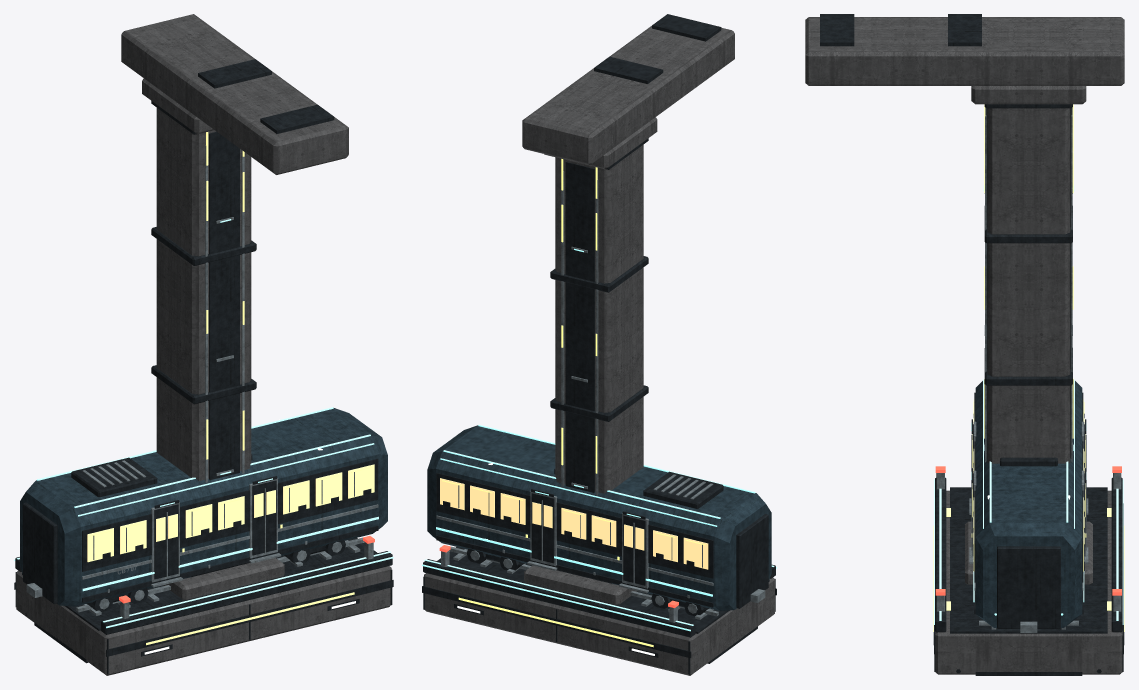
Rendered from elevated-rail-v2.glb.
3 renders of one model, left to right at view 1: azimuth 30°, elevation 25°; view 2: azimuth 150°, elevation 25°; view 3: azimuth 270°, elevation 25°, orthographic. The views are drawn at different scales.
Parts seen in each view (by area): view 1: RailPier_Concrete, RailPier_BlackSteel, TrainMiddle_MidnightBody, TrainCar_BlackSteel, TrainCar_MidnightBody, RailDeck_Concrete, RailDeck_BlackSteel, TrainCar_WarmWindows, TrainCar_WornAlloy, TrainMiddle_BlackSteel, RailPier_WornAlloy, TrainCar_CyanGuide (+7 smaller); view 2: RailPier_Concrete, TrainCar_MidnightBody, RailPier_BlackSteel, RailDeck_Concrete, TrainCar_BlackSteel, TrainMiddle_MidnightBody, RailDeck_BlackSteel, TrainMiddle_BlackSteel, TrainCar_WarmWindows, TrainCar_WornAlloy, RailPier_WornAlloy, TrainCar_CyanGuide (+7 smaller); view 3: RailPier_Concrete, TrainMiddle_MidnightBody, RailDeck_BlackSteel, RailDeck_Concrete, RailPier_BlackSteel, TrainMiddle_BlackSteel, TrainCar_MidnightBody, TrainCar_BlackSteel, RailPier_WornAlloy, RailDeck_CyanGuide, TrainCar_WornAlloy, TrainMiddle_CyanGuide (+2 smaller).
Boxes of the visible parts, left/top/right/bottom form: RailPier_Concrete: left=121, top=14, right=348, bottom=599; RailPier_BlackSteel: left=151, top=59, right=334, bottom=577; TrainMiddle_MidnightBody: left=37, top=408, right=387, bottom=605; TrainCar_BlackSteel: left=23, top=454, right=345, bottom=611; TrainCar_MidnightBody: left=20, top=422, right=323, bottom=606; RailDeck_Concrete: left=16, top=566, right=391, bottom=675; RailDeck_BlackSteel: left=14, top=538, right=393, bottom=674; TrainCar_WarmWindows: left=87, top=480, right=309, bottom=562; TrainCar_WornAlloy: left=26, top=460, right=342, bottom=609; TrainMiddle_BlackSteel: left=82, top=458, right=378, bottom=601; RailPier_WornAlloy: left=205, top=145, right=244, bottom=482; TrainCar_CyanGuide: left=37, top=420, right=326, bottom=591; RailPier_Concrete: left=522, top=26, right=734, bottom=604; TrainCar_MidnightBody: left=488, top=438, right=771, bottom=610; RailPier_BlackSteel: left=550, top=14, right=721, bottom=583; RailDeck_Concrete: left=424, top=573, right=774, bottom=675; TrainCar_BlackSteel: left=466, top=469, right=768, bottom=616; TrainMiddle_MidnightBody: left=427, top=425, right=753, bottom=610; RailDeck_BlackSteel: left=422, top=547, right=776, bottom=674; TrainMiddle_BlackSteel: left=436, top=473, right=712, bottom=607; TrainCar_WarmWindows: left=500, top=493, right=708, bottom=569; TrainCar_WornAlloy: left=470, top=474, right=765, bottom=613; RailPier_WornAlloy: left=561, top=171, right=598, bottom=495; TrainCar_CyanGuide: left=485, top=437, right=755, bottom=596; RailPier_Concrete: left=805, top=17, right=1124, bottom=584; TrainMiddle_MidnightBody: left=975, top=381, right=1082, bottom=627; RailDeck_BlackSteel: left=933, top=477, right=1124, bottom=675; RailDeck_Concrete: left=935, top=490, right=1122, bottom=674; RailPier_BlackSteel: left=820, top=14, right=1072, bottom=458; TrainMiddle_BlackSteel: left=973, top=393, right=1084, bottom=628; TrainCar_MidnightBody: left=975, top=379, right=1082, bottom=617; TrainCar_BlackSteel: left=971, top=392, right=1086, bottom=555; RailPier_WornAlloy: left=984, top=107, right=1072, bottom=462; RailDeck_CyanGuide: left=934, top=479, right=1123, bottom=624; TrainCar_WornAlloy: left=969, top=413, right=1088, bottom=573; TrainMiddle_CyanGuide: left=973, top=381, right=1084, bottom=602.
Size of the model in its own units: 9.65 by 14.9 by 7.5.
Materials: 9 (4 with a texture image).
